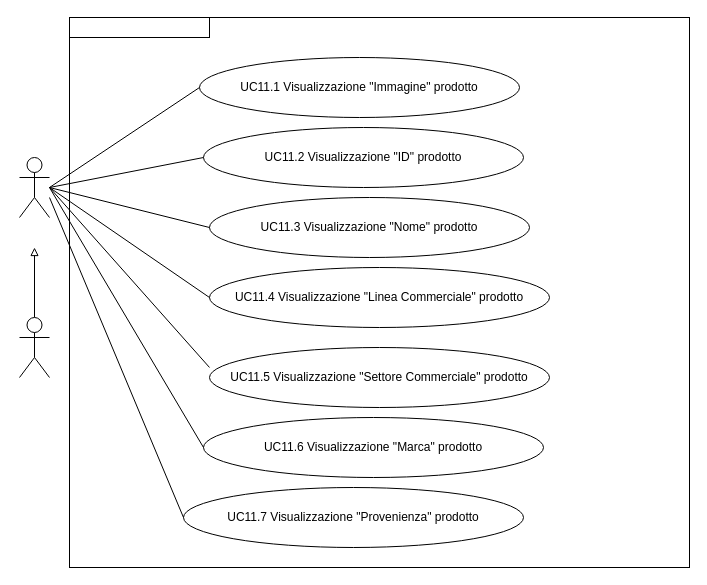
Some shapes in this 707 by 585 pixel diagram are drawn without their labels. Here are the shapes that lost their labels. From the top down, the centre of each, then its label:
(139,27): Interfaccia Web
(34,187): User
(34,347): Admin
